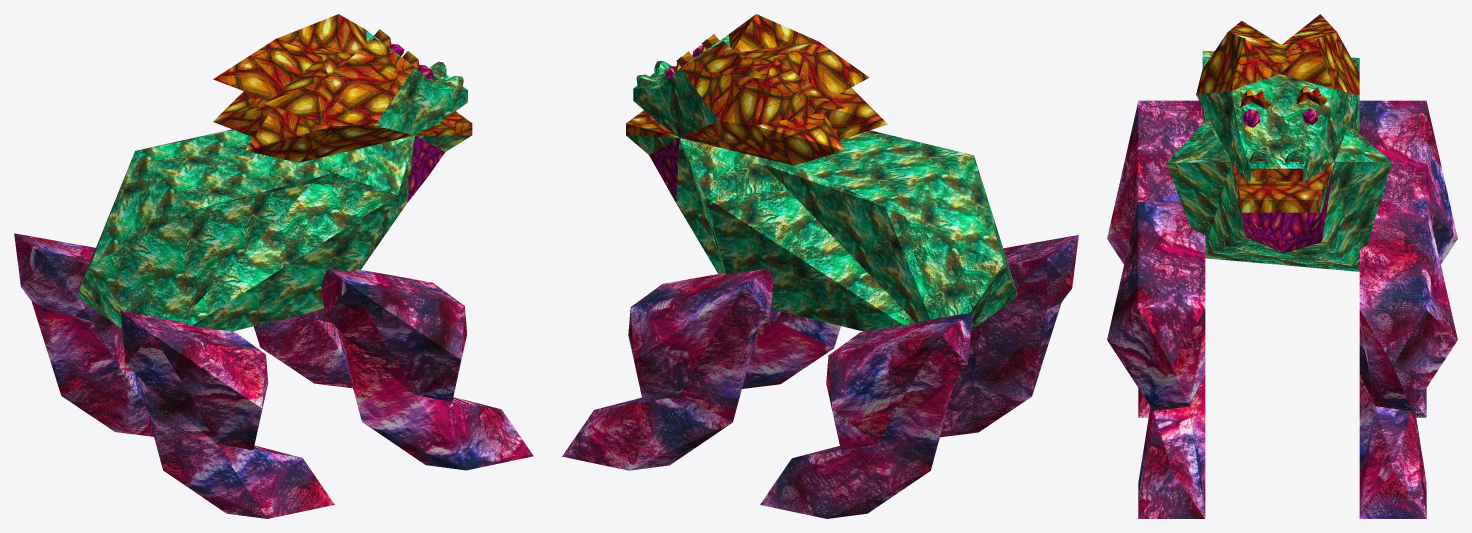
The model's file is Dragon.dae.
3 renders of one model, left to right at view 1: azimuth 30°, elevation 25°; view 2: azimuth 150°, elevation 25°; view 3: azimuth 270°, elevation 25°, orthographic. The views are drawn at different scales.
Visible parts, largest first — view 1: group_6 (×4), group_1, group_0, group_3, group_2, group_5 (×2), group_4; view 2: group_6 (×3), group_3, group_2, group_1, group_0, group_5 (×2), group_4; view 3: group_6 (×3), group_0, group_2, group_3, group_1, group_5 (×2), group_4 (×2).
Boxes of the visible parts, x1,y1,x2,y2 form: group_6 (×4): (76,14,438,331); group_1: (120,311,334,518); group_0: (321,268,533,470); group_3: (14,233,153,436); group_2: (253,309,352,388); group_5 (×2): (407,111,472,202); group_4: (415,73,467,134); group_6 (×3): (659,14,1017,331); group_3: (760,312,973,518); group_2: (562,268,773,470); group_1: (940,235,1078,437); group_0: (742,309,840,388); group_5 (×2): (626,110,679,202); group_4: (633,66,679,137); group_6 (×3): (1166,14,1391,271); group_0: (1107,201,1205,518); group_2: (1359,201,1457,518); group_3: (1359,100,1457,417); group_1: (1107,100,1202,417); group_5 (×2): (1231,162,1334,253); group_4 (×2): (1231,137,1334,181).
Bounding box in the file's own units: 59.54 × 44.31 × 59.27.
